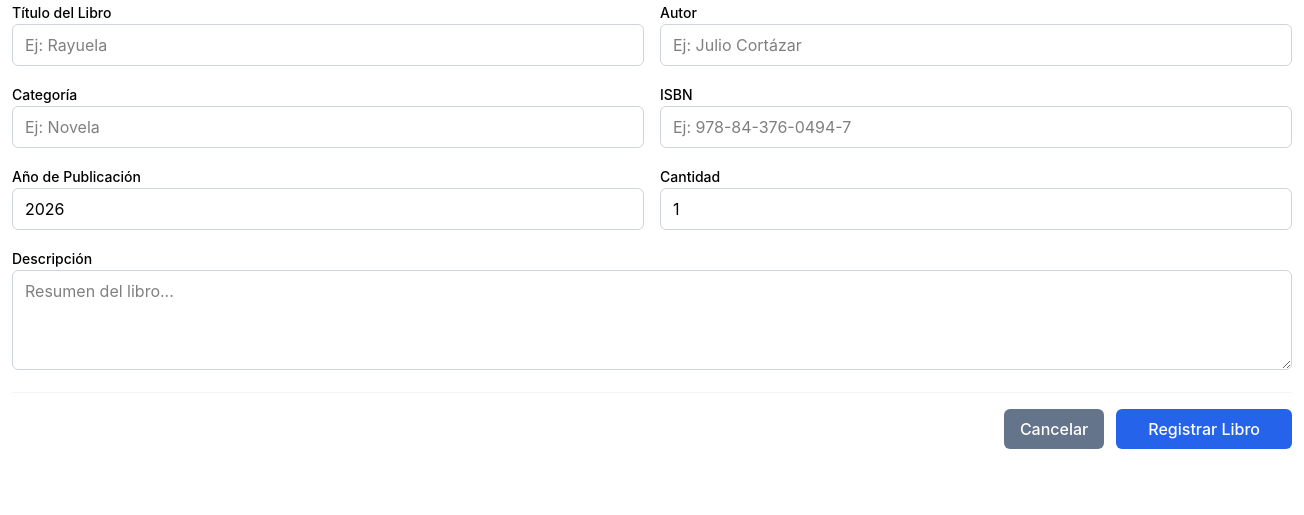
Test: BookForm › muestra errores cuando se envía el formulario vacío
Clear the field with placeholder "Ej: Rayuela" at (328, 45), box [12, 24, 644, 66]
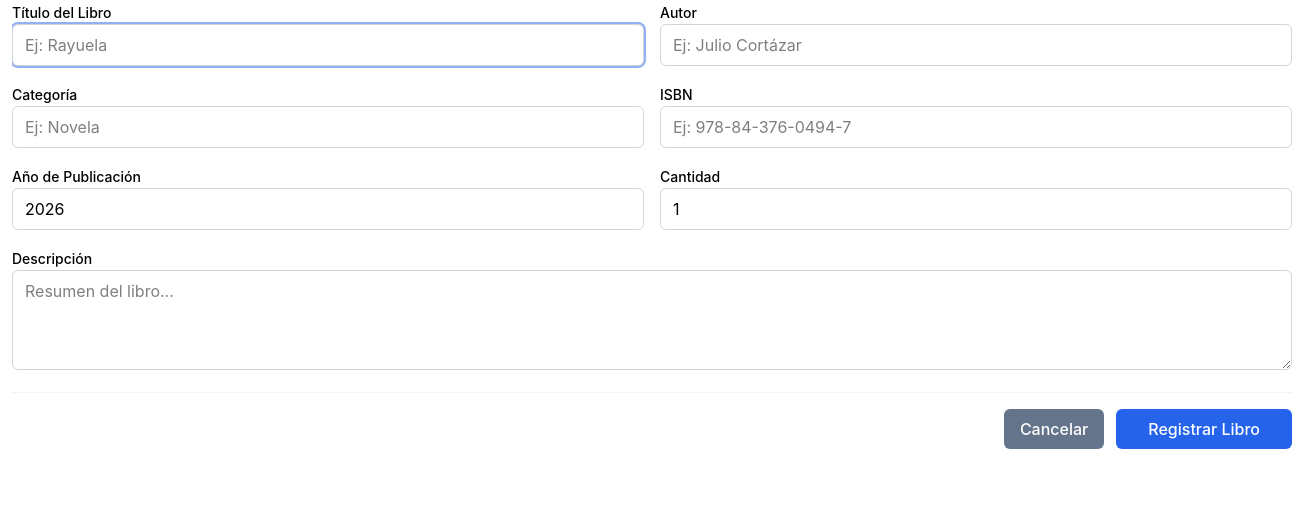
Clear the field with placeholder "Ej: Julio Cortázar" at (976, 45), box [660, 24, 1292, 66]
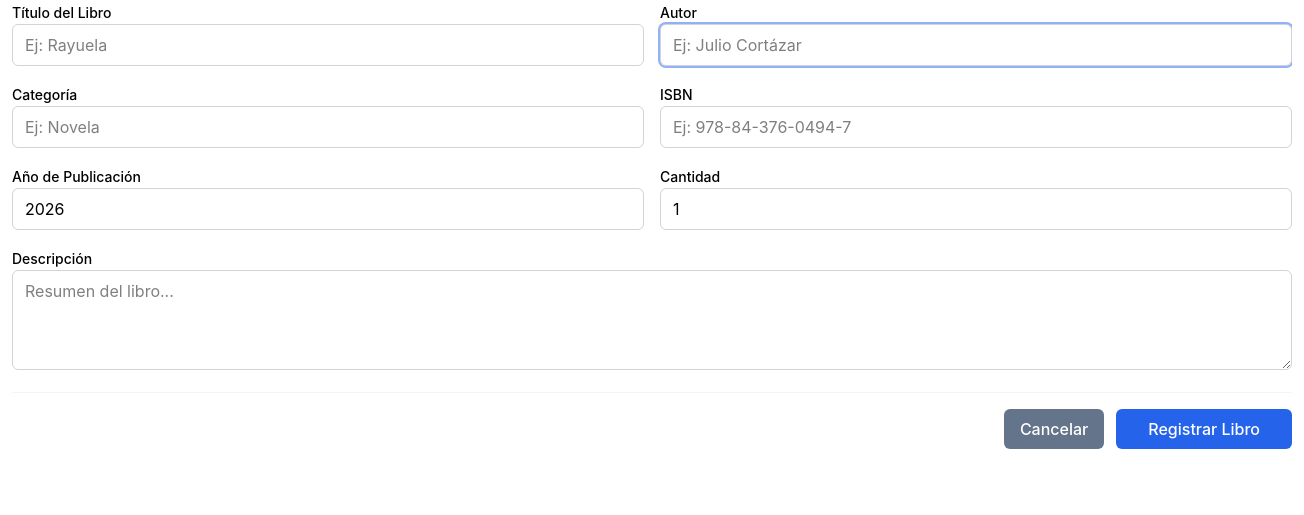
Clear the field with placeholder "Ej: Novela" at (328, 127), box [12, 106, 644, 148]
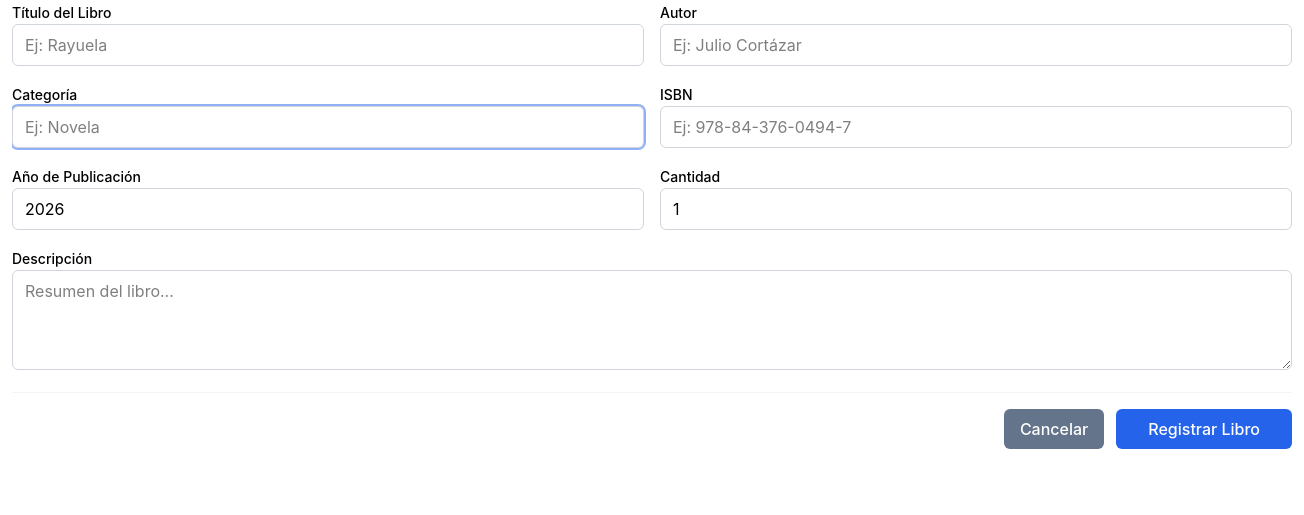
Clear the field with placeholder "Ej: 978-84-376-0494-7" at (976, 127), box [660, 106, 1292, 148]
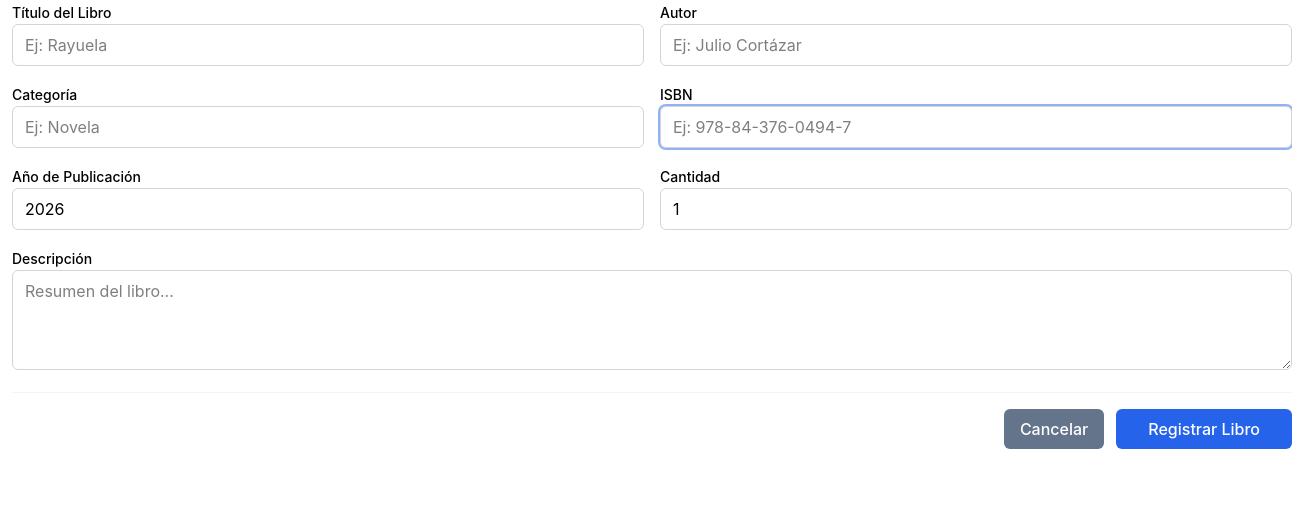
Click the button "Registrar Libro" at (1204, 429), box [1116, 409, 1292, 449]
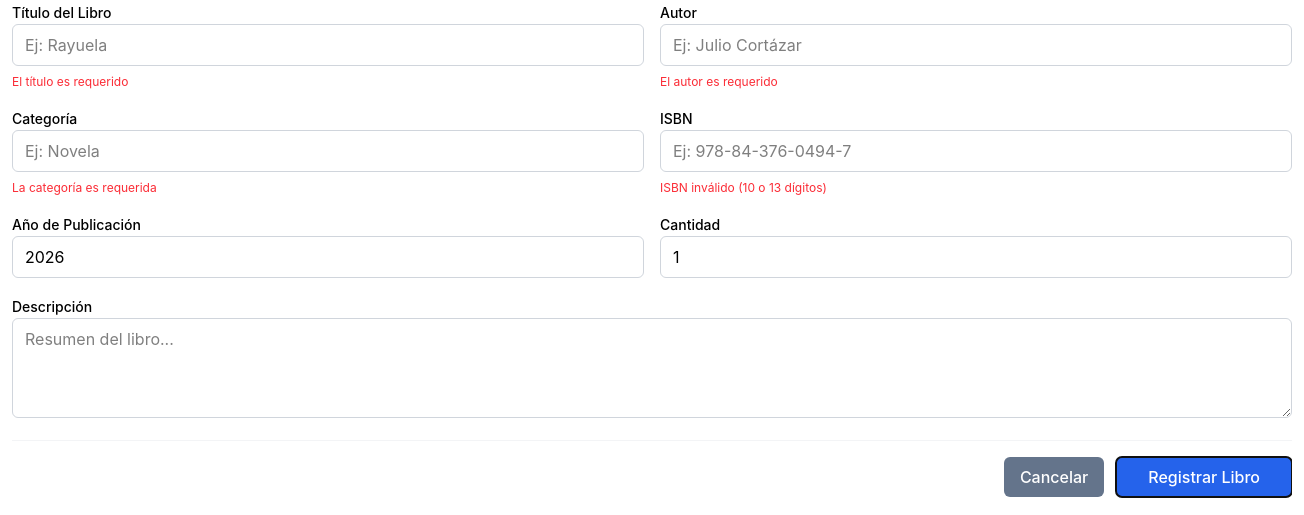
Check: the text "El título es requerido" is shown, box [12, 74, 128, 89]
Check: the text "El autor es requerido" is shown, box [660, 74, 778, 89]
Check: the text "La categoría es requerida" is shown, box [12, 180, 157, 195]
